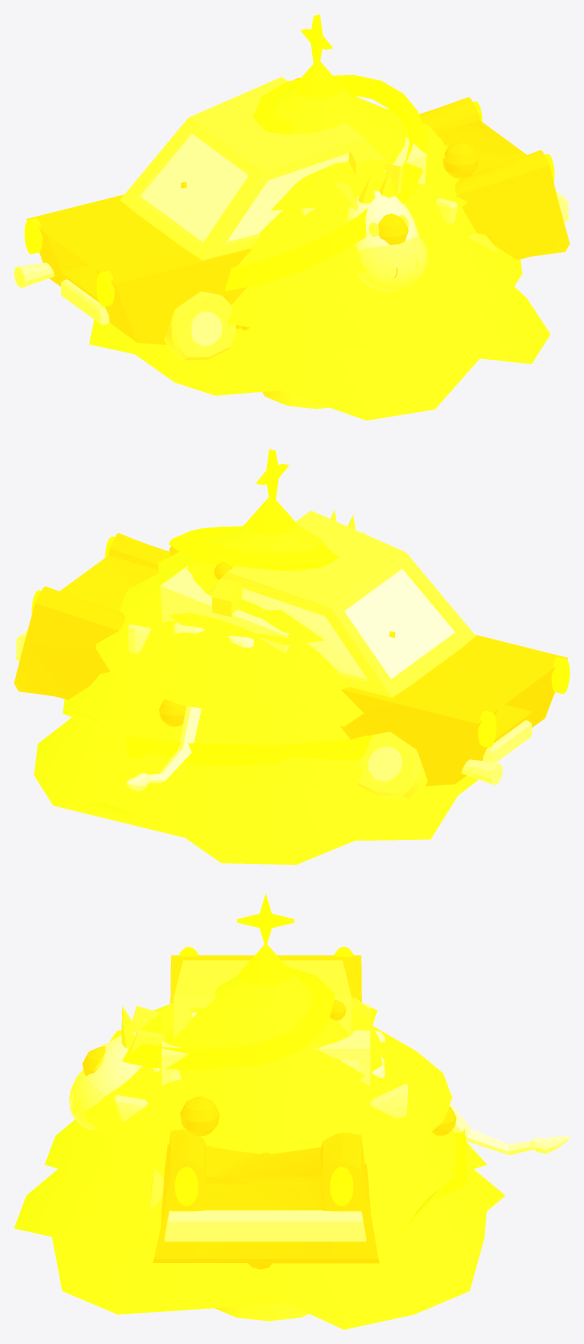
Rendered from floating_obstacles(1)(1).glb.
3 views of the same model, one above another, from view 1: azimuth 30°, elevation 25°; view 2: azimuth 150°, elevation 25°; view 3: azimuth 270°, elevation 25° (orthographic). The views are drawn at different scales.
Visible parts, largest first — view 1: christmastree, car, cow, locker, window; view 2: christmastree, car, locker, cow, window; view 3: christmastree, car, cow, locker, window.
Boxes of the visible parts, <box> form: christmastree: <box>89,14,550,420</box>; car: <box>14,77,569,359</box>; cow: <box>334,164,427,291</box>; locker: <box>300,137,426,215</box>; window: <box>348,147,374,174</box>; christmastree: <box>34,449,478,864</box>; car: <box>14,510,569,798</box>; locker: <box>160,566,290,653</box>; cow: <box>126,510,365,791</box>; window: <box>211,578,242,616</box>; christmastree: <box>14,893,505,1329</box>; car: <box>114,946,407,1263</box>; cow: <box>69,1006,569,1154</box>; locker: <box>161,1004,370,1085</box>; window: <box>163,997,371,1033</box>.
Size of the model in its own units: 4.77 by 3.63 by 4.58.
